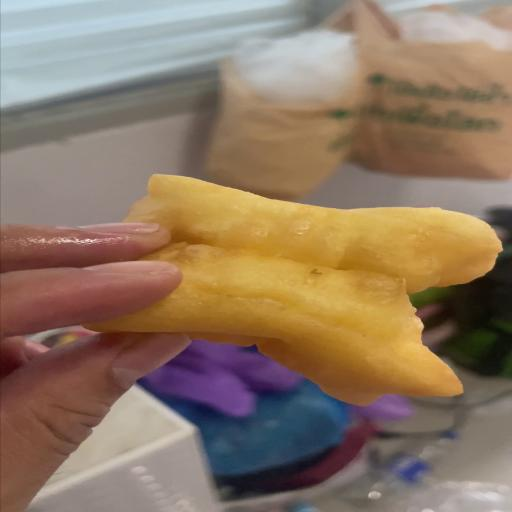street_golden_good: (87, 174, 493, 404)
